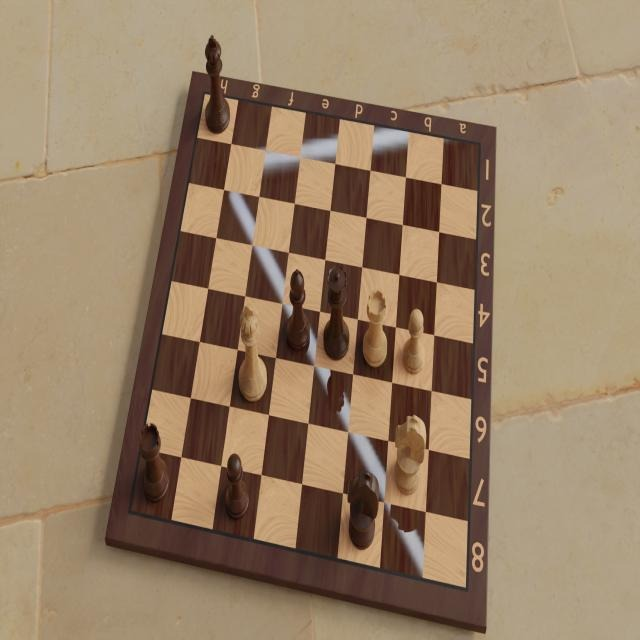black-bishop: (284, 269, 311, 355)
black-king: (203, 32, 234, 139)
black-knight: (347, 467, 381, 554)
black-pawn: (222, 451, 254, 524)
black-queen: (319, 262, 350, 363)
black-rook: (138, 419, 174, 510)
white-king: (238, 301, 270, 406)
white-knight: (391, 410, 427, 498)
white-pawn: (399, 303, 430, 381)
white-rook: (361, 286, 390, 369)
